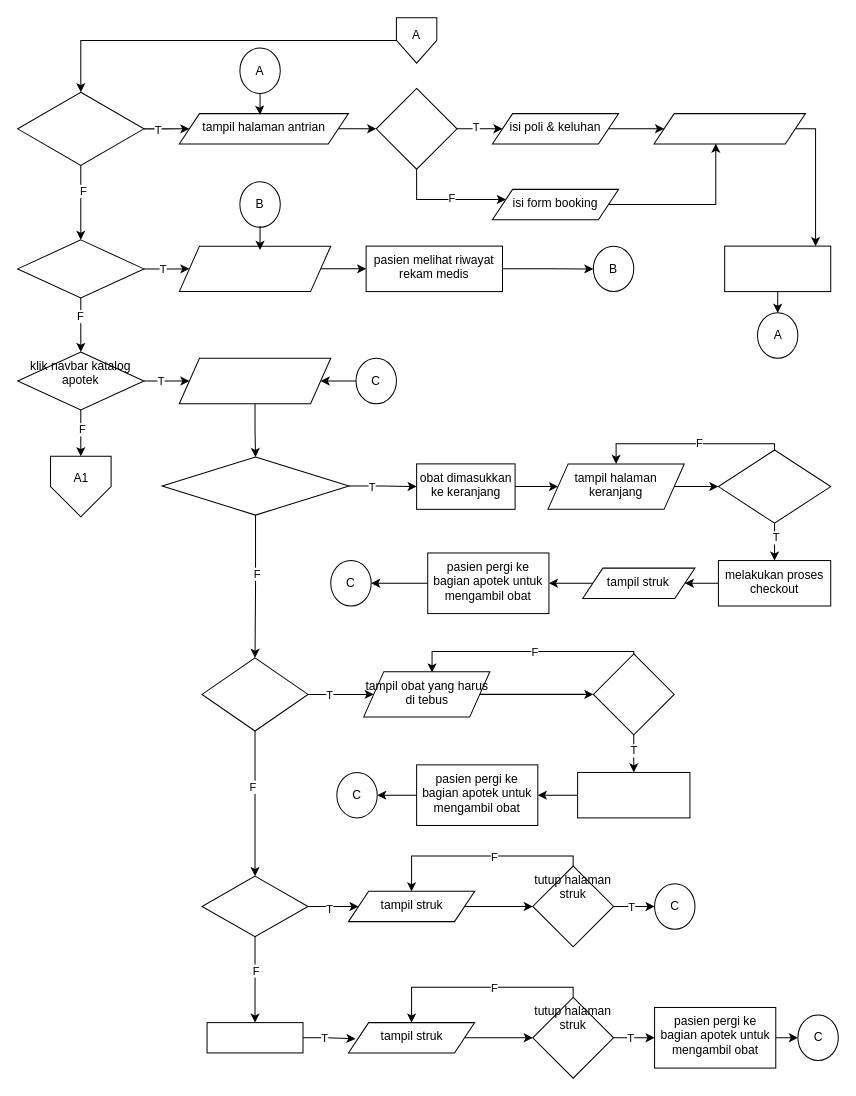
Image size: 856x1096. Some labels were removed from this diagram. The shapes that lost their labels are listed below. From the top down, each one's centre as x and y in pixels, then its label:
At (80,128): "klik navbar antrian saya".
At (416,128): "ambil antrian hari ini".
At (729,128): "tampil nomor antrian".
At (80,268): "klik navbar riwayat medis".
At (254,268): "tampil daftar riwayat rekam medis pasien".
At (777,268): "pasien menunggu dipanggil".
At (254,380): "tampil katalog obat dan reservasi obat".
At (255,485): "klik fitur masukkan obat ke keranjang".
At (774,486): "klik checkout & terbitkan struk".
At (254,694): "klik fitur tebus resep".
At (633,694): "klik tebus obat".
At (633,794): "melakukan proses tebus obat".
At (254,906): "klik fitur struk".
At (254,1037): "klik fitur ambil".
